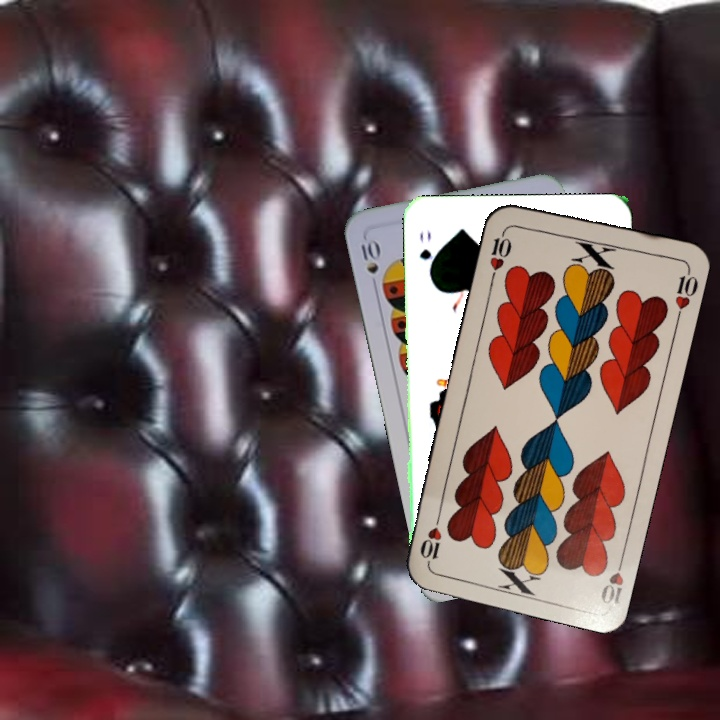GO: (415, 226, 438, 280)
H10: (595, 550, 627, 607), (485, 224, 515, 282)
S10: (357, 235, 382, 293)
